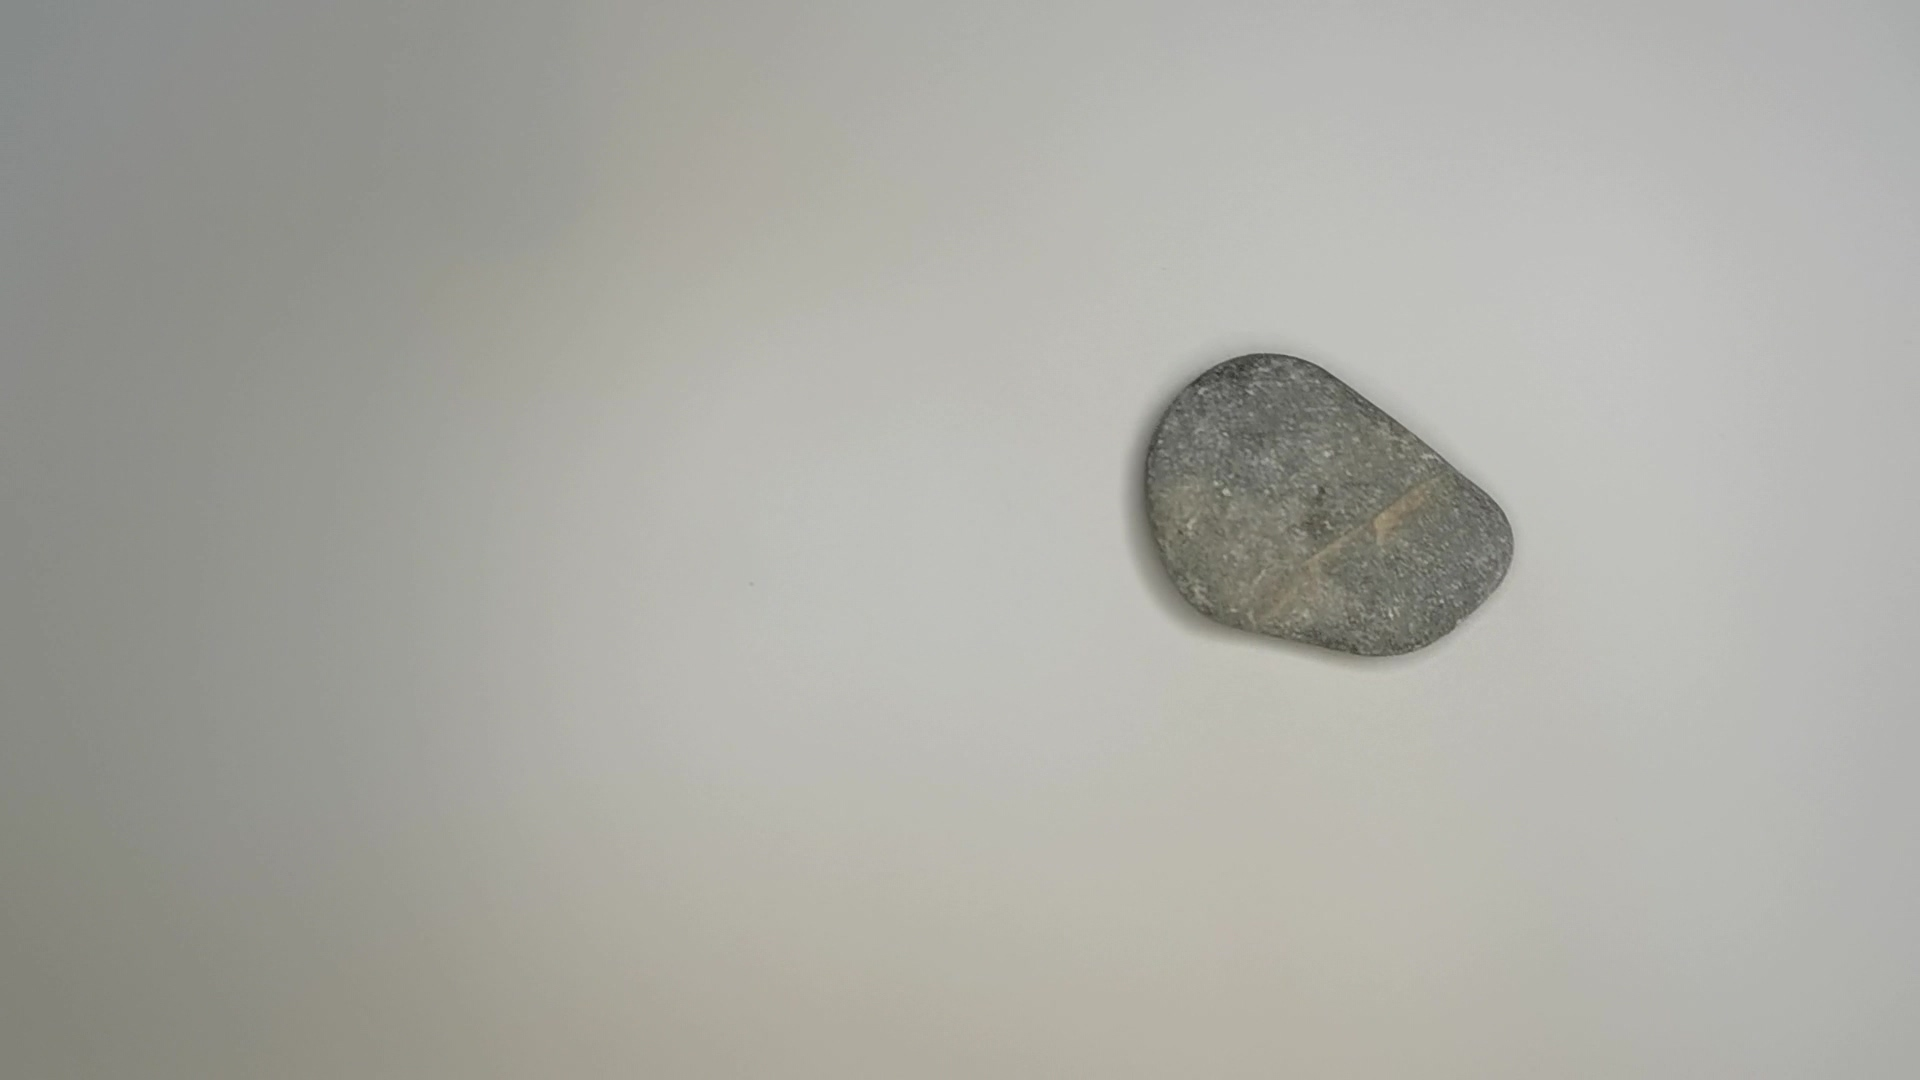ceramic: (1130, 348, 1519, 661)
